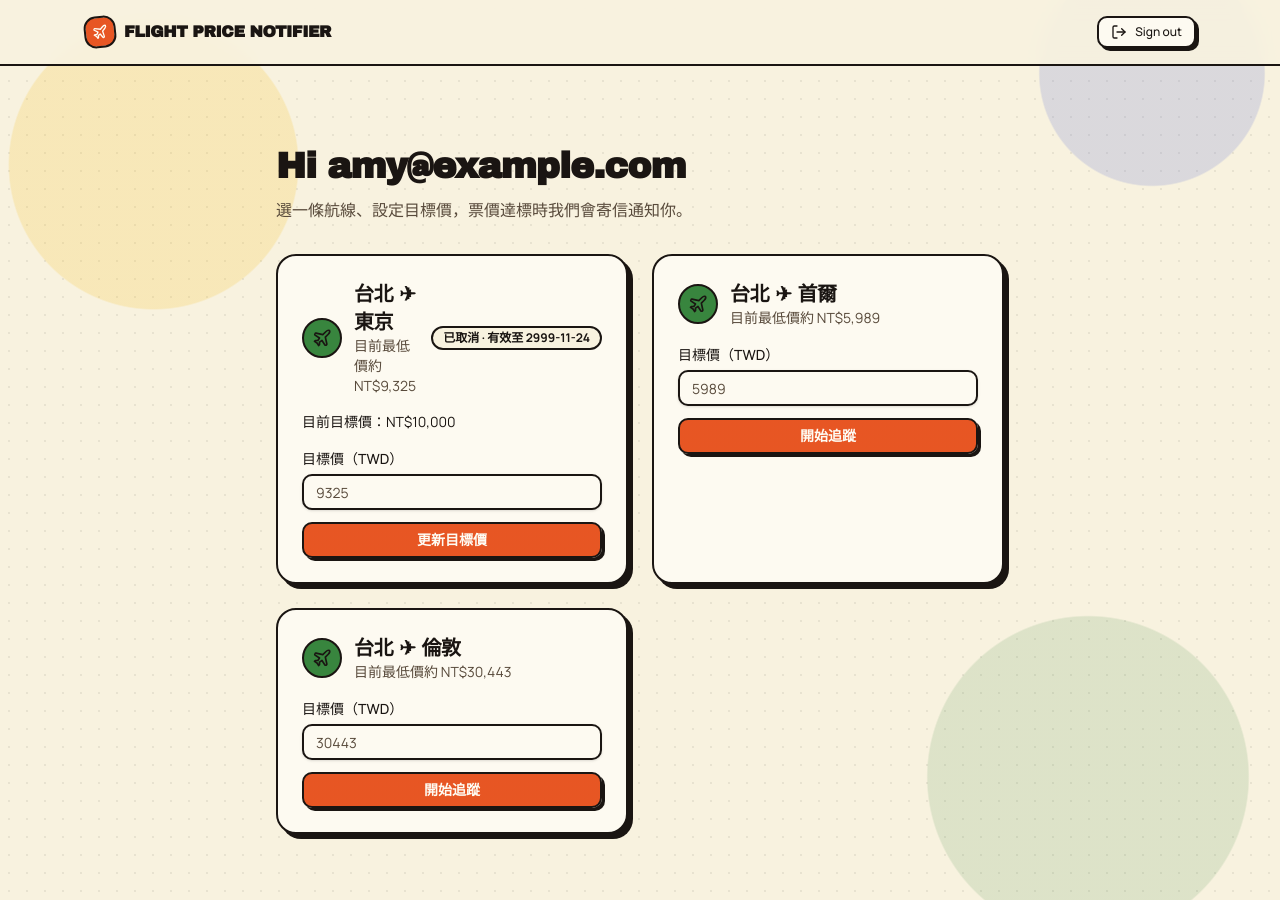
Test: Dashboard cancel and grace period › a cancelled plan inside its paid period can still update its target, and can't be cancelled
Expected: the text "已取消 · 有效至 2999-11-24" is shown, [431, 326, 602, 350]
Type "8000" into the field labelled "目標價（TWD）" below "目前目標價：".
click(452, 492); type("8000")  # box [302, 474, 602, 510]
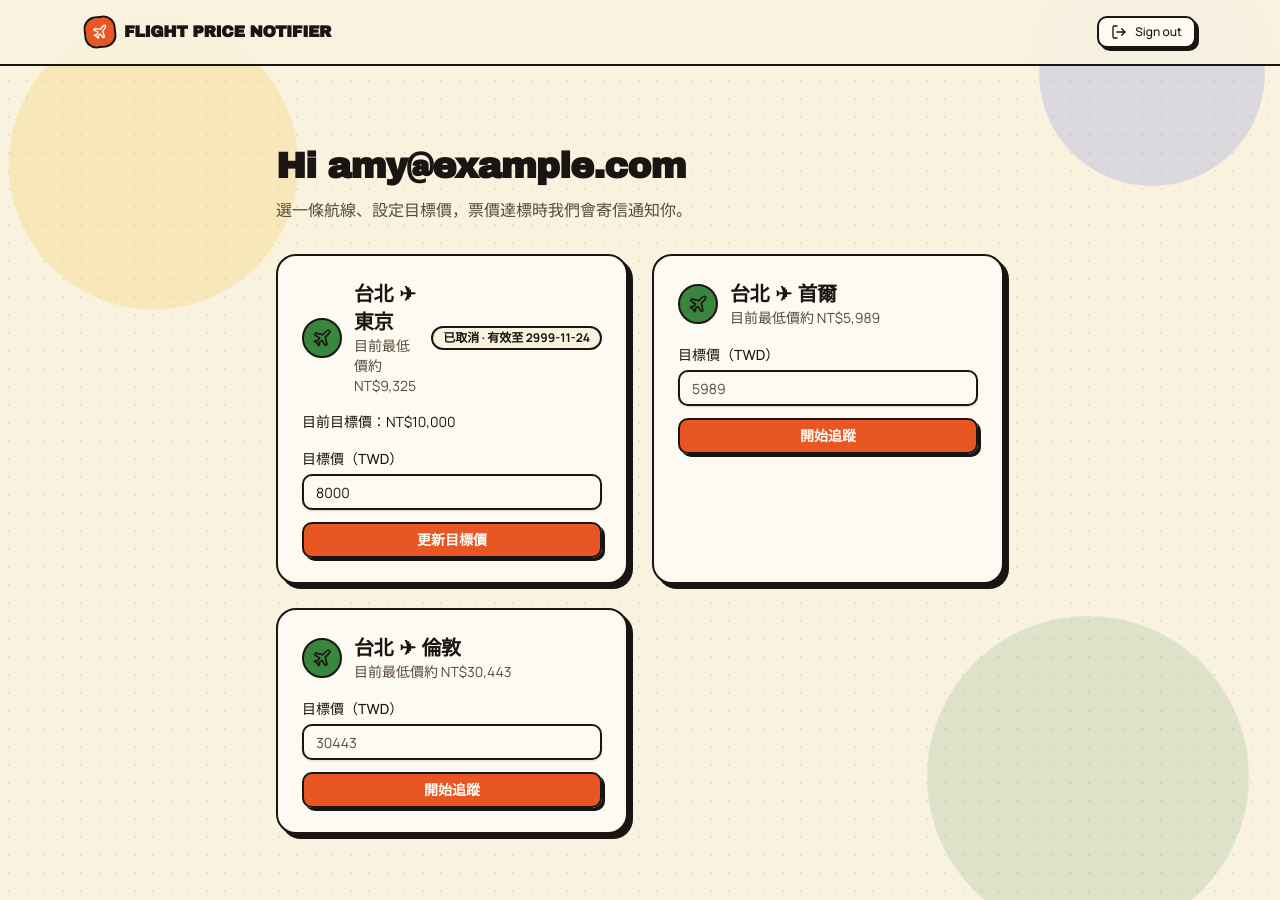
Click the button "更新目標價".
click(452, 540)  # box [302, 522, 602, 558]
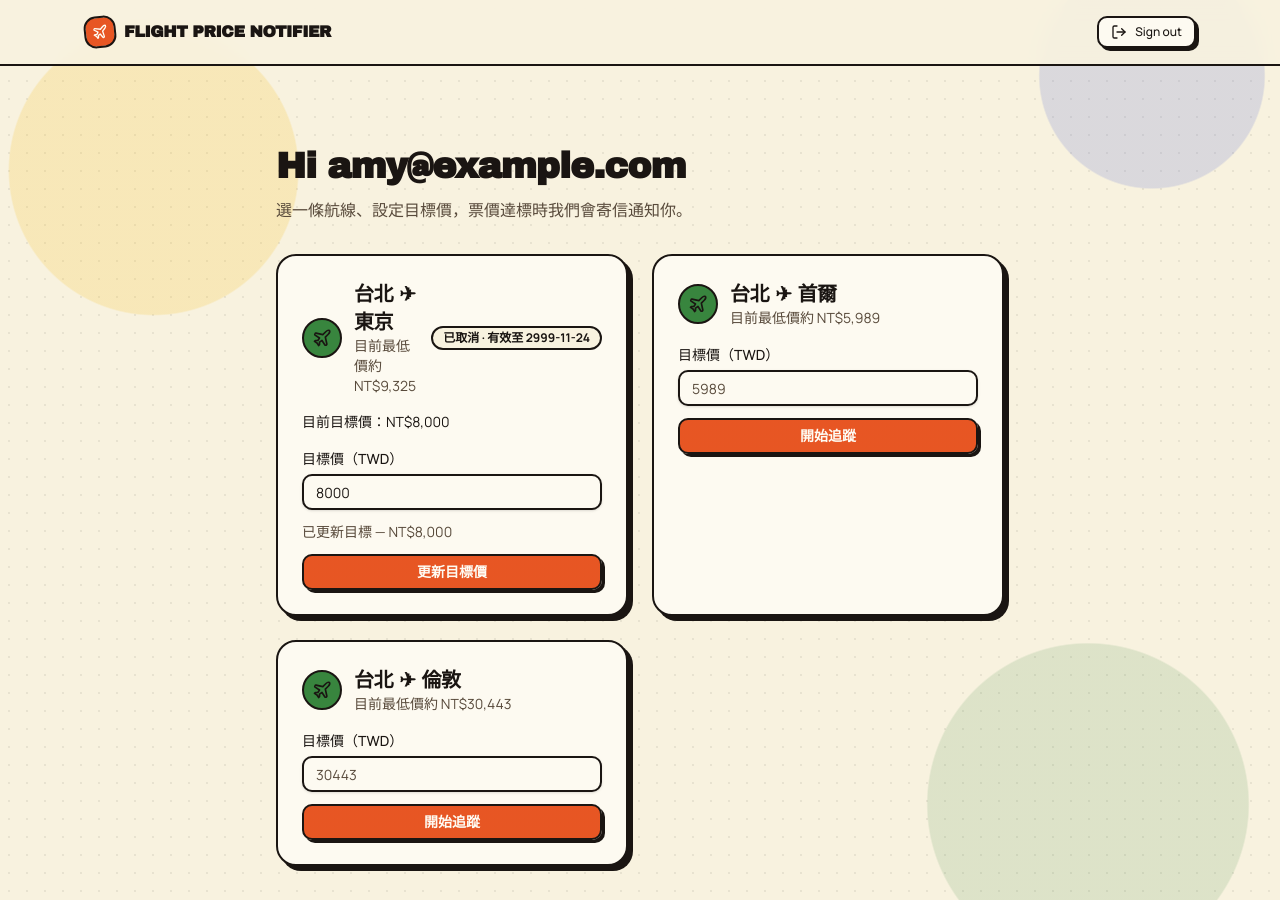
Expected: the text "已取消 · 有效至 2999-11-24" is shown, [431, 326, 602, 350]
Expected: the text "目前目標價：NT$8,000" is shown, [302, 412, 450, 431]
